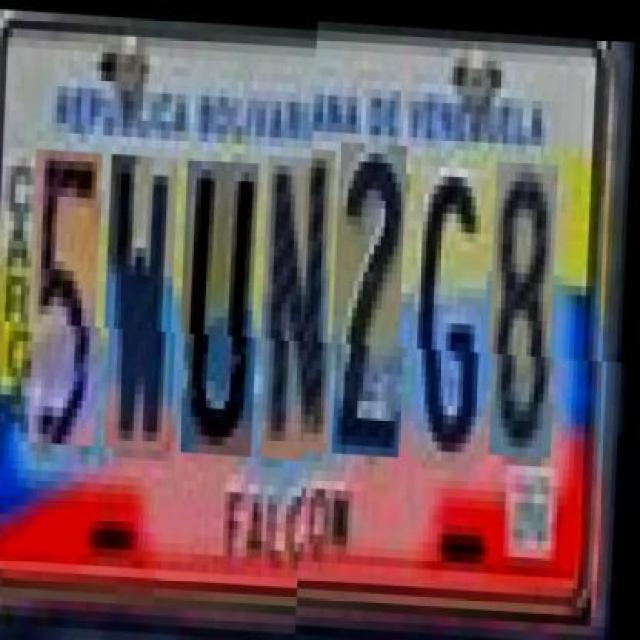2: (336, 147, 412, 461)
5: (32, 148, 110, 444)
8: (491, 163, 564, 460)
g: (416, 168, 498, 466)
n: (264, 152, 342, 457)
u: (184, 156, 265, 453)
w: (108, 153, 184, 450)
